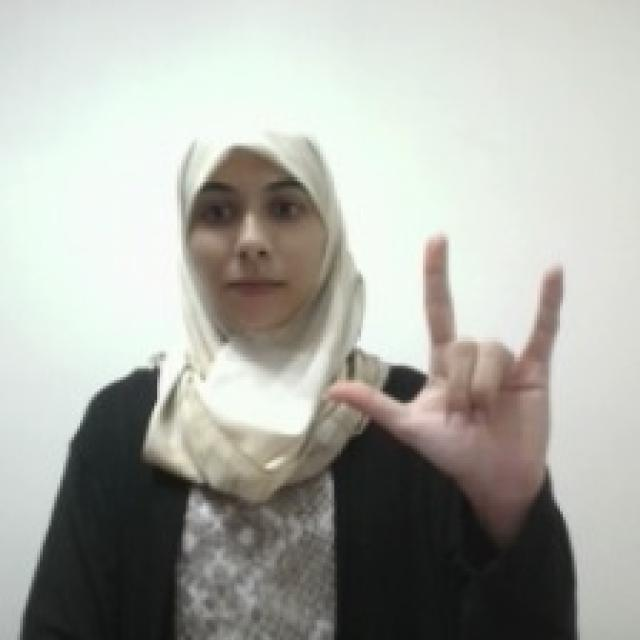love: (320, 225, 568, 482)
